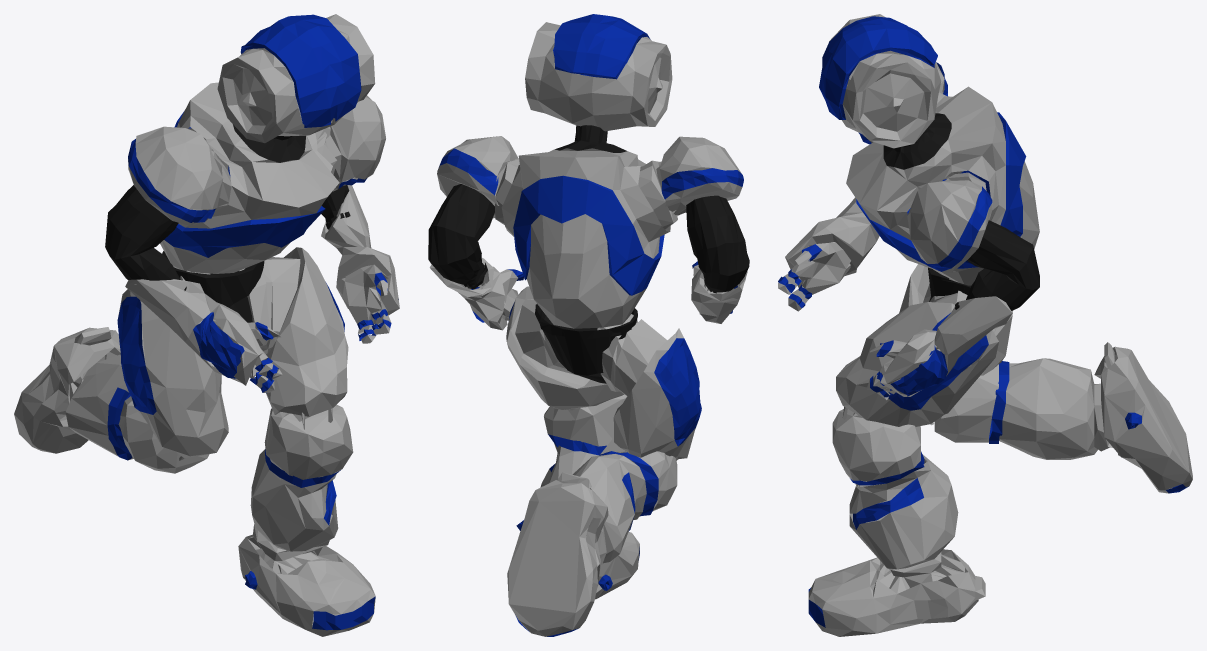
File: run10.obj
The picture shows the model from 3 angles, left to right: view 1: azimuth 30°, elevation 25°; view 2: azimuth 150°, elevation 25°; view 3: azimuth 270°, elevation 25°; orthographic projection. The views are drawn at different scales.
Visible parts, largest first — view 1: Robot2.001_Robot2Mesh.000, Robot2_Robot2Mesh.004, Robot2.002_Robot2Mesh.001; view 2: Robot2.001_Robot2Mesh.000, Robot2_Robot2Mesh.004, Robot2.002_Robot2Mesh.001; view 3: Robot2.001_Robot2Mesh.000, Robot2_Robot2Mesh.004, Robot2.002_Robot2Mesh.001.
Part boxes in pixels (x1,y1,x2,y2): Robot2.001_Robot2Mesh.000: (14,14,399,636); Robot2_Robot2Mesh.004: (107,14,398,630); Robot2.002_Robot2Mesh.001: (105,124,350,322); Robot2.001_Robot2Mesh.000: (429,22,747,636); Robot2_Robot2Mesh.004: (438,14,743,636); Robot2.002_Robot2Mesh.001: (428,125,749,383); Robot2.001_Robot2Mesh.000: (778,14,1192,636); Robot2_Robot2Mesh.004: (778,16,1188,627); Robot2.002_Robot2Mesh.001: (883,113,1039,310).
Size of the model in its own units: 0.99 by 1.91 by 1.22.
